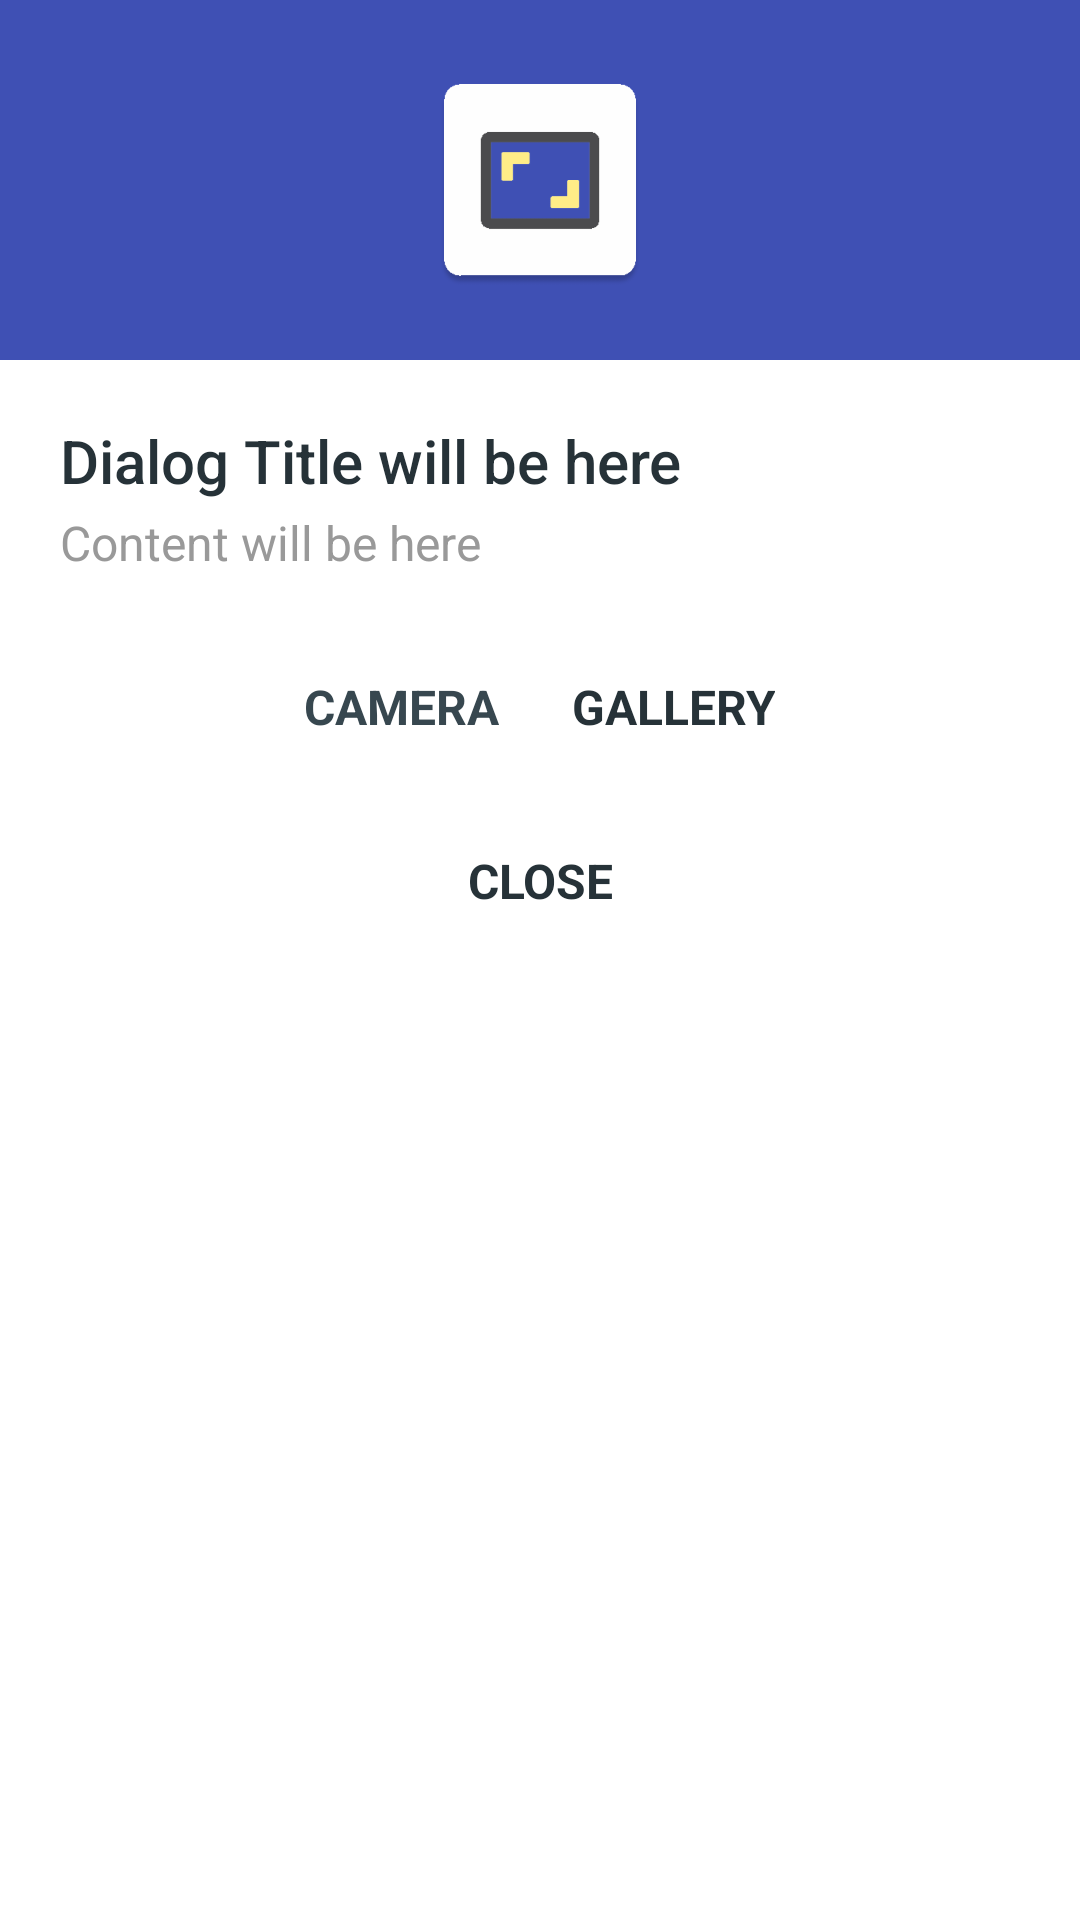

Named icons in this screenshot (1080w x 1920h) and their bounding boxes, (x1, y1, x2, y2):
select source: (444, 84, 636, 280)
